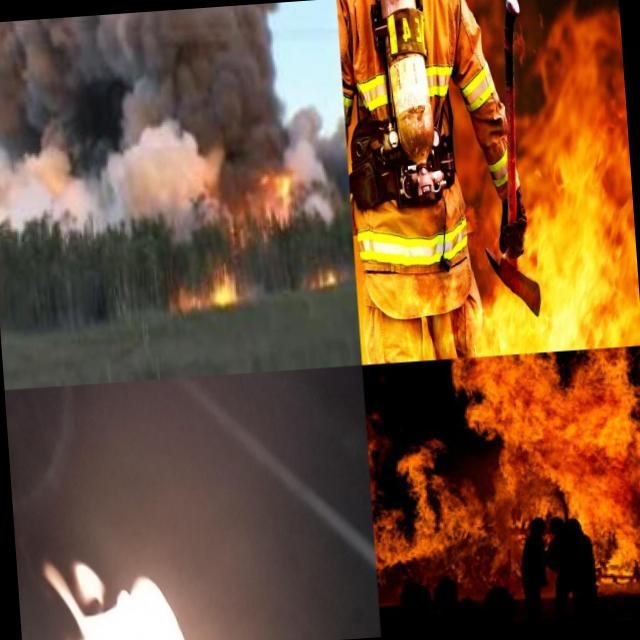fire: (450, 0, 640, 356), (361, 345, 640, 585), (30, 526, 289, 640), (168, 245, 250, 324), (261, 150, 305, 220), (299, 249, 348, 296)
smoke: (0, 8, 264, 246)
